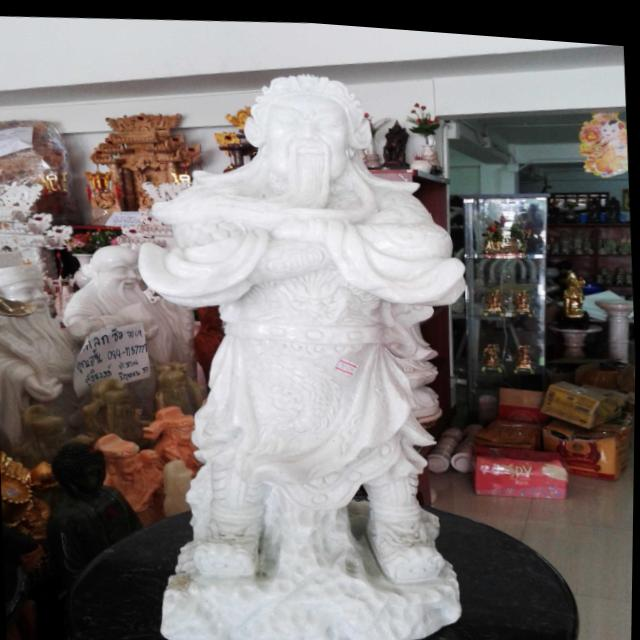Guan Yu: (148, 53, 484, 492)
